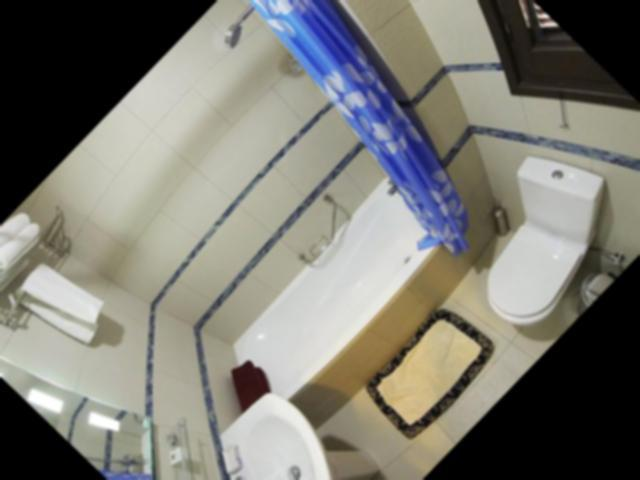Bote de Basura: (566, 259, 619, 312)
Lavamanos: (167, 359, 404, 480)
